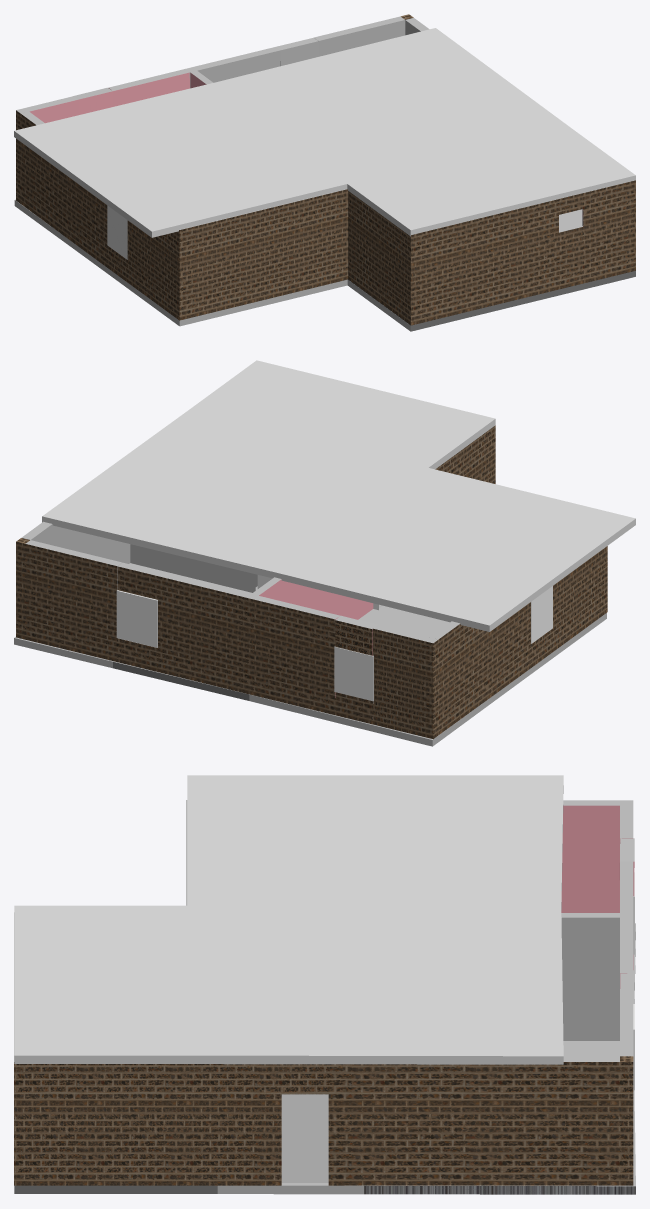
The model's file is Luna's house.fbx.
3 views of the same model, one above another, from view 1: azimuth 30°, elevation 25°; view 2: azimuth 150°, elevation 25°; view 3: azimuth 270°, elevation 25° (orthographic). The views are drawn at different scales.
Parts seen in each view (by area): view 1: roof, walls, floor, CTRL_Hole.003; view 2: roof, walls, floor, CTRL_Hole.001, CTRL_Hole.002, CTRL_Hole.003; view 3: roof, walls, floor, CTRL_Hole.
Boxes of the visible parts, x1=… form: roof: x1=14, y1=28, x2=635, y2=237; walls: x1=16, y1=14, x2=635, y2=325; floor: x1=14, y1=199, x2=635, y2=331; CTRL_Hole.003: x1=107, y1=205, x2=127, y2=259; roof: x1=42, y1=360, x2=635, y2=631; walls: x1=16, y1=425, x2=607, y2=739; floor: x1=14, y1=563, x2=606, y2=746; CTRL_Hole.001: x1=116, y1=590, x2=157, y2=647; CTRL_Hole.002: x1=334, y1=646, x2=373, y2=701; CTRL_Hole.003: x1=531, y1=586, x2=552, y2=643; roof: x1=14, y1=775, x2=563, y2=1064; walls: x1=14, y1=800, x2=634, y2=1185; floor: x1=14, y1=923, x2=635, y2=1194; CTRL_Hole: x1=281, y1=1094, x2=328, y2=1182.
Size of the model in its own units: 6839 by 1571 by 6398.
